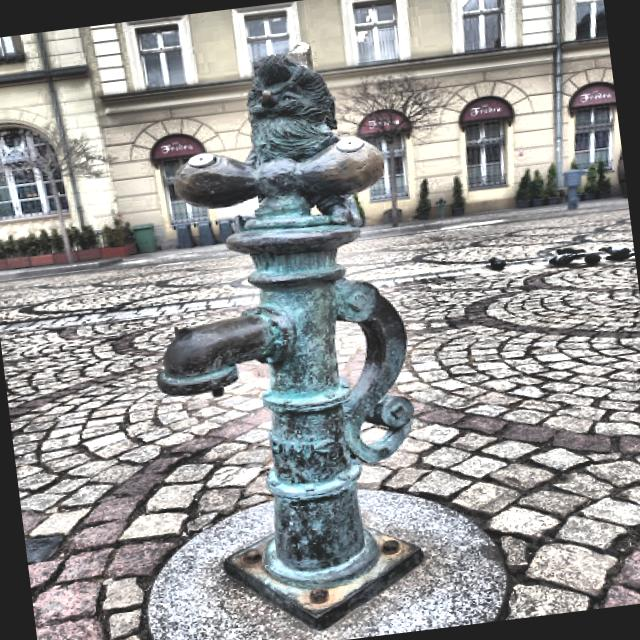Orzezwiacz: (157, 45, 427, 632)
